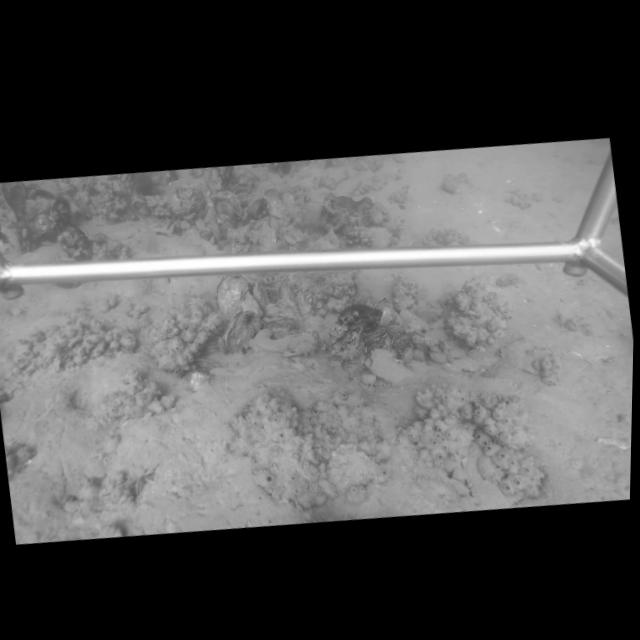Oyster-Closed: (365, 347, 414, 386), (216, 275, 249, 318), (224, 310, 255, 354), (253, 280, 265, 307), (391, 310, 403, 329), (401, 347, 413, 363), (414, 348, 426, 363)
Oyster-Indeterminate: (324, 444, 381, 493), (252, 327, 320, 356), (283, 232, 298, 246)
